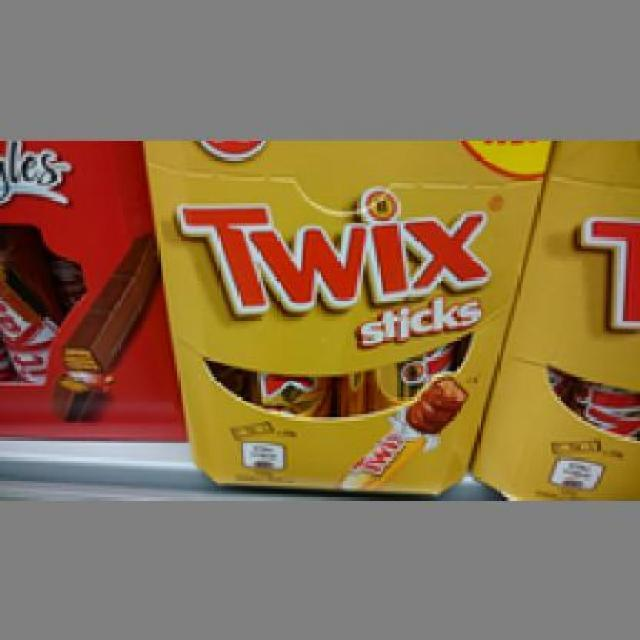Chocolate: (140, 140, 549, 489), (0, 134, 183, 443)
